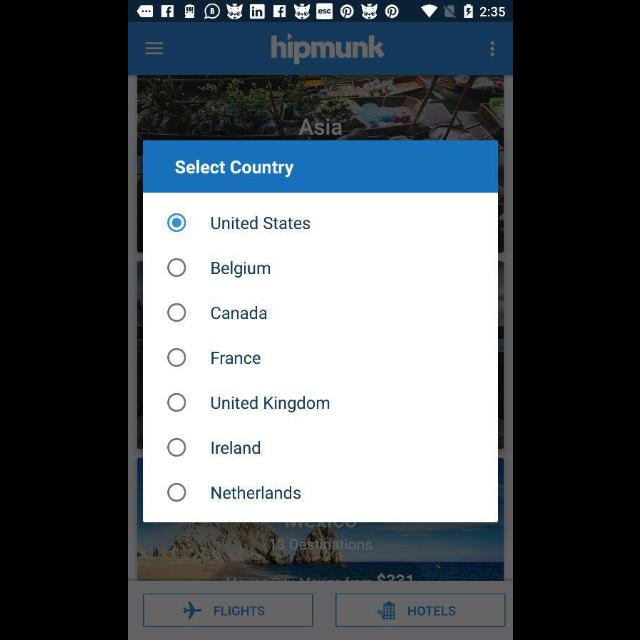checkbox: (167, 392, 186, 412), (167, 214, 186, 232), (167, 259, 185, 277), (167, 348, 185, 366), (167, 439, 185, 457), (167, 483, 185, 501), (167, 304, 185, 320)
icon: (144, 42, 164, 56), (489, 42, 493, 58)
panel: (142, 140, 498, 522)
text: (270, 33, 384, 65), (174, 160, 294, 178), (210, 396, 330, 412), (210, 216, 310, 230), (210, 485, 300, 499), (210, 262, 270, 278), (211, 306, 267, 320), (210, 440, 260, 454), (210, 352, 260, 364)
textbutton: (142, 593, 314, 627), (335, 593, 505, 627)
uppertaskbar: (128, 1, 512, 23)
